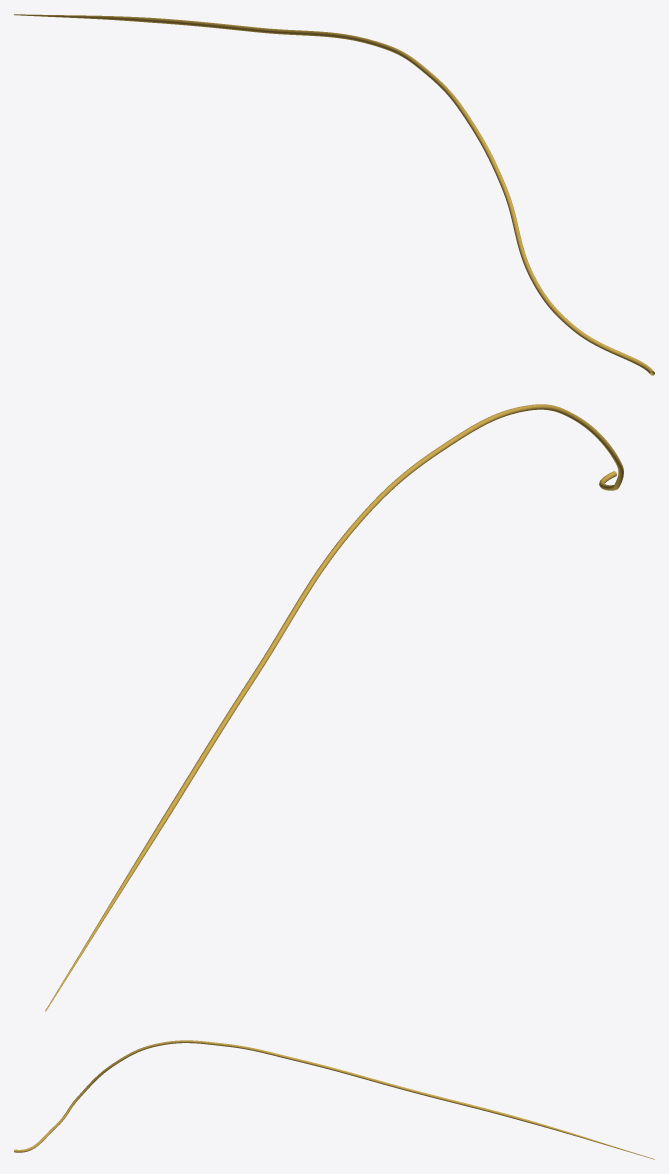
3 views of the same model, one above another, from view 1: azimuth 30°, elevation 25°; view 2: azimuth 150°, elevation 25°; view 3: azimuth 270°, elevation 25° (orthographic). The views are drawn at different scales.
Visible parts, largest first — view 1: 右侧前臂后皮神经; view 2: 右侧前臂后皮神经; view 3: 右侧前臂后皮神经.
Part boxes in pixels (box(x1,y1,x2,y2)): 右侧前臂后皮神经: box(14, 14, 654, 375); 右侧前臂后皮神经: box(45, 404, 623, 1011); 右侧前臂后皮神经: box(14, 1040, 654, 1159).
Size of the model in its own units: 0.0234 by 0.0729 by 0.3401.
